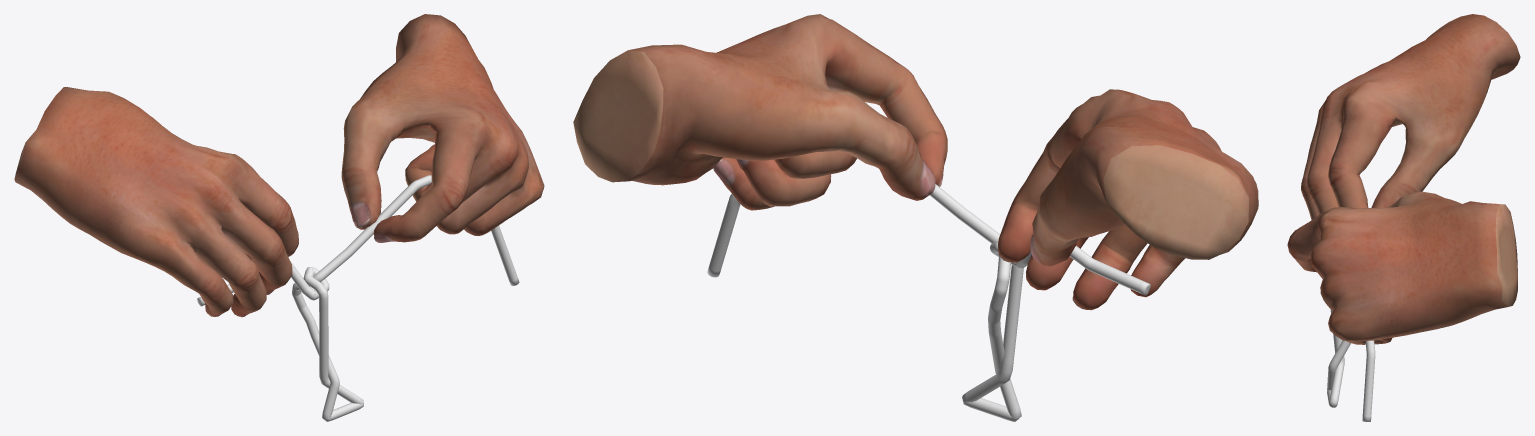
Rendered from zfk_part2_assi_looseend.fbx.
The picture shows the model from 3 angles, left to right: view 1: azimuth 30°, elevation 25°; view 2: azimuth 150°, elevation 25°; view 3: azimuth 270°, elevation 25°; orthographic projection. The views are drawn at different scales.
Parts seen in each view (by area): view 1: Hand_R, Hand_L, faden_L, faden_R; view 2: Hand_L, Hand_R, faden_L, faden_R; view 3: Hand_L, Hand_R, faden_L, faden_R.
Boxes of the visible parts, x1=… form: Hand_R: x1=14, y1=87, x2=298, y2=317; Hand_L: x1=341, y1=14, x2=544, y2=242; faden_L: x1=292, y1=175, x2=519, y2=421; faden_R: x1=197, y1=261, x2=363, y2=415; Hand_L: x1=573, y1=14, x2=947, y2=210; Hand_R: x1=998, y1=89, x2=1258, y2=310; faden_L: x1=707, y1=184, x2=1021, y2=421; faden_R: x1=962, y1=241, x2=1150, y2=414; Hand_L: x1=1287, y1=191, x2=1517, y2=344; Hand_R: x1=1301, y1=14, x2=1520, y2=220; faden_L: x1=1327, y1=340, x2=1375, y2=421; faden_R: x1=1328, y1=310, x2=1344, y2=407.
Bounding box in the file's own units: 35.43 × 21.96 × 15.8.
